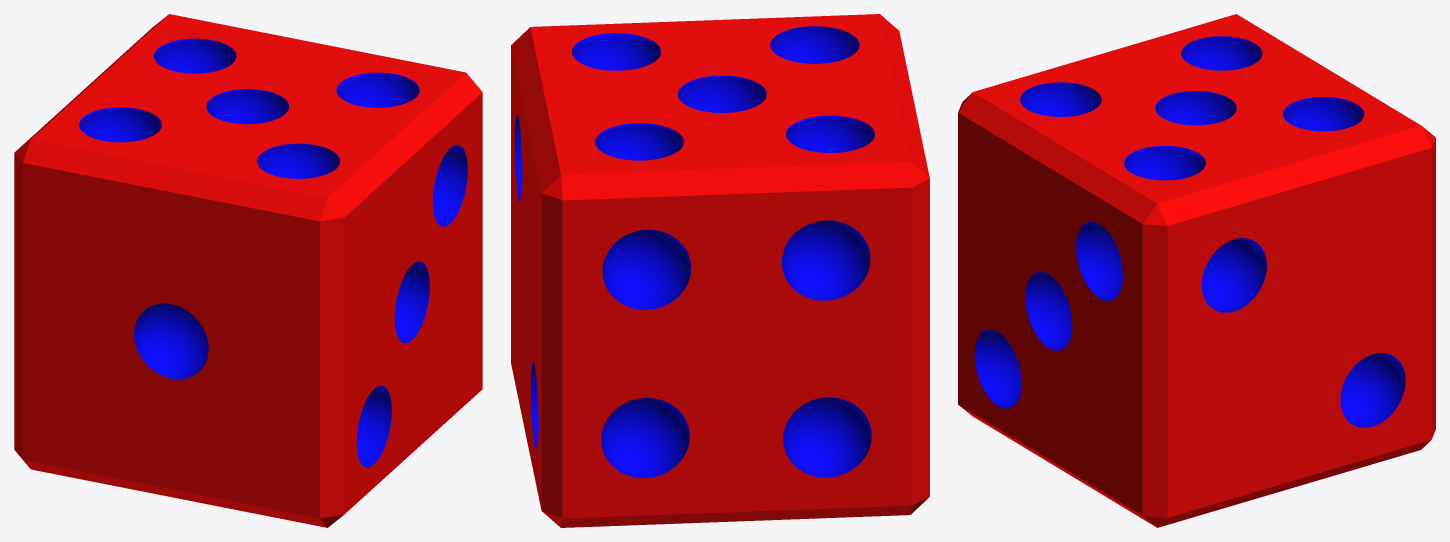
Rendered from Dice.fbx.
3 renders of one model, left to right at view 1: azimuth 30°, elevation 25°; view 2: azimuth 150°, elevation 25°; view 3: azimuth 270°, elevation 25°, orthographic. The views are drawn at different scales.
Visible parts, largest first — view 1: dice2; view 2: dice2; view 3: dice2.
Boxes of the visible parts, bbox=[...] form: dice2: bbox=[14, 14, 482, 527]; dice2: bbox=[511, 14, 929, 527]; dice2: bbox=[958, 14, 1435, 527].
Bounding box in the file's own units: 267 × 200 × 267.
